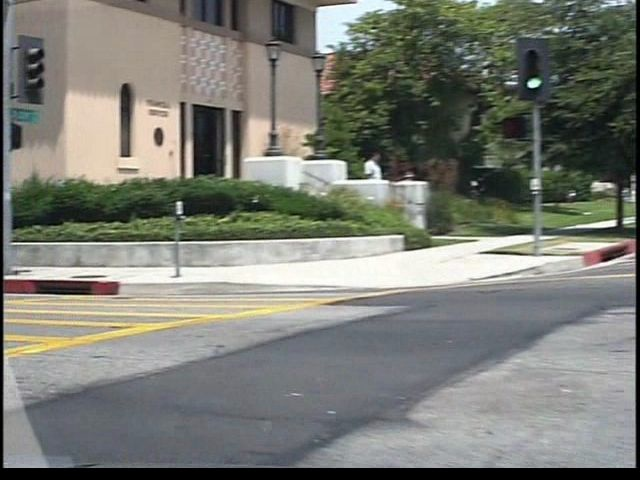person: (345, 150, 368, 222)
